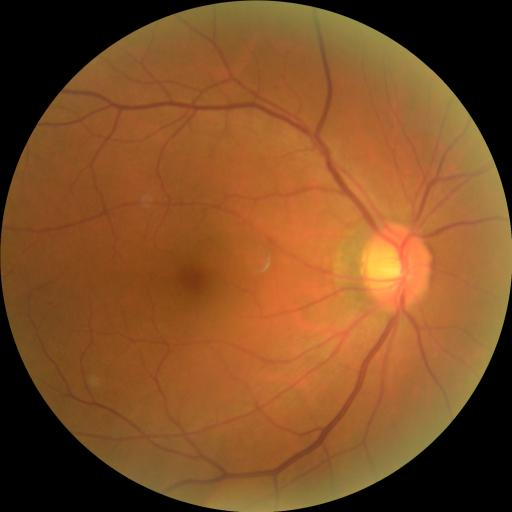Optic Cup: (368, 249, 407, 287)
Optic Disc: (361, 221, 432, 311)
